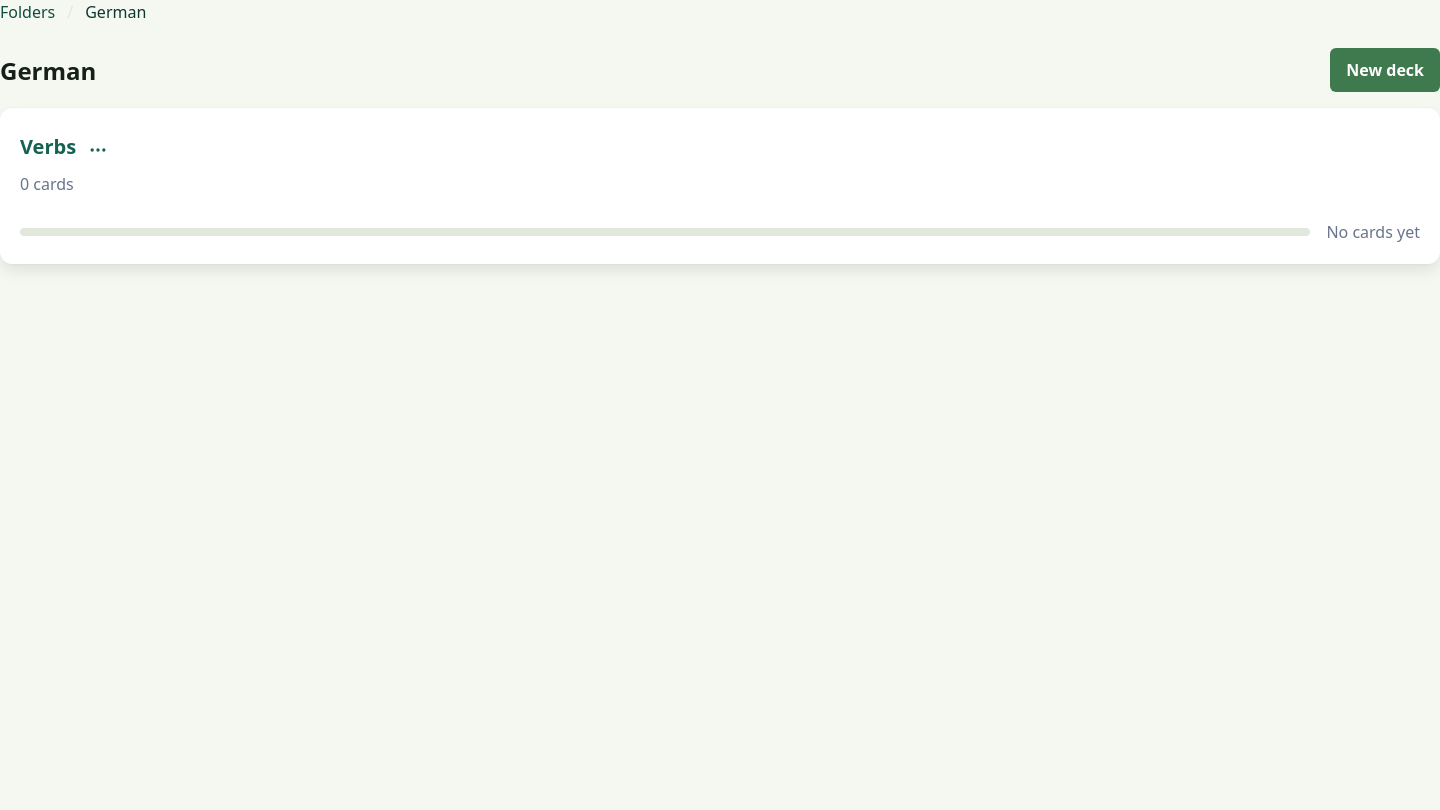
Test: FolderView › keeps the move dialog open, with the reason, when the move fails
Click the button with test id "deck-menu" at [98, 150], box [76,128,120,172]
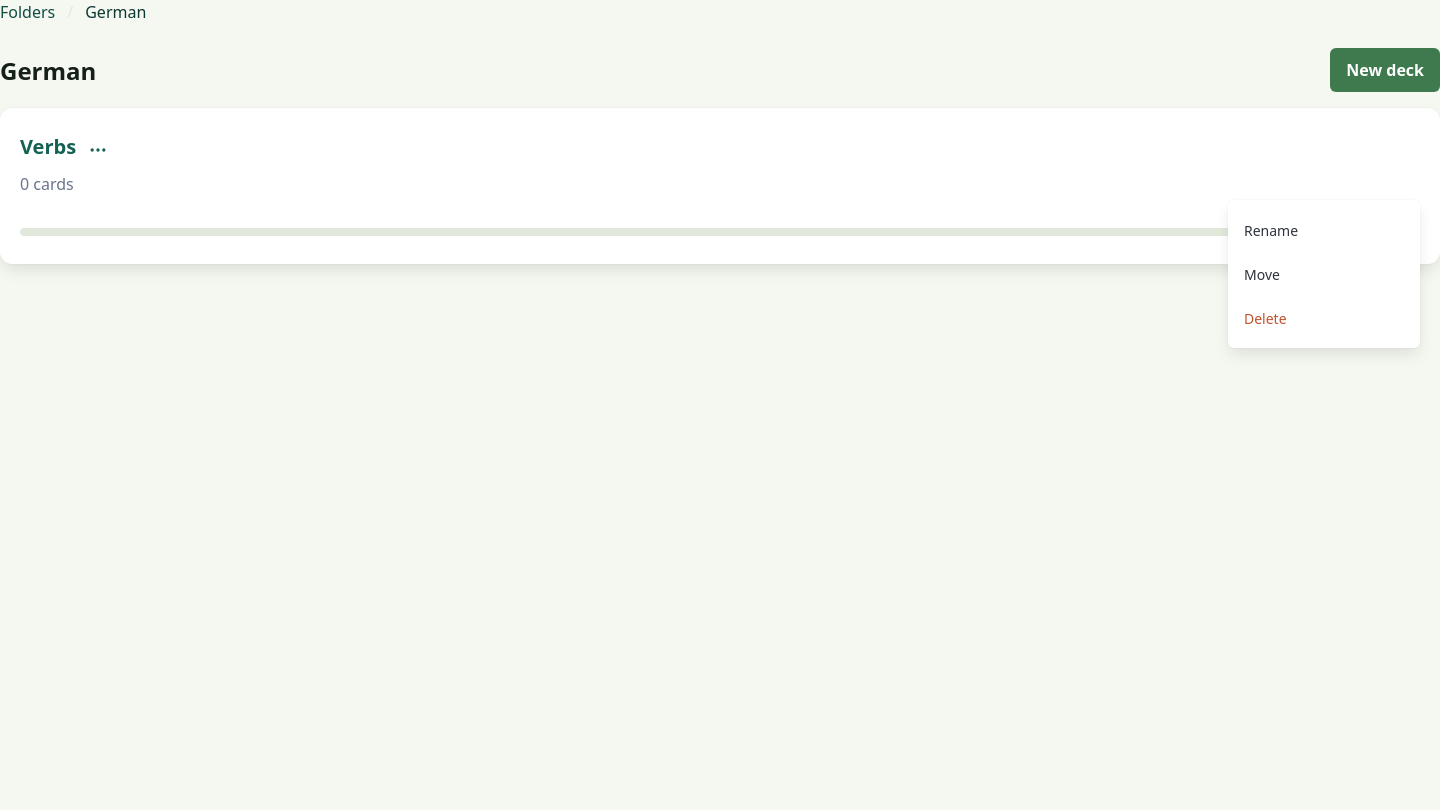
Click the button with test id "deck-move" at [1324, 274], box [1228,252,1420,296]
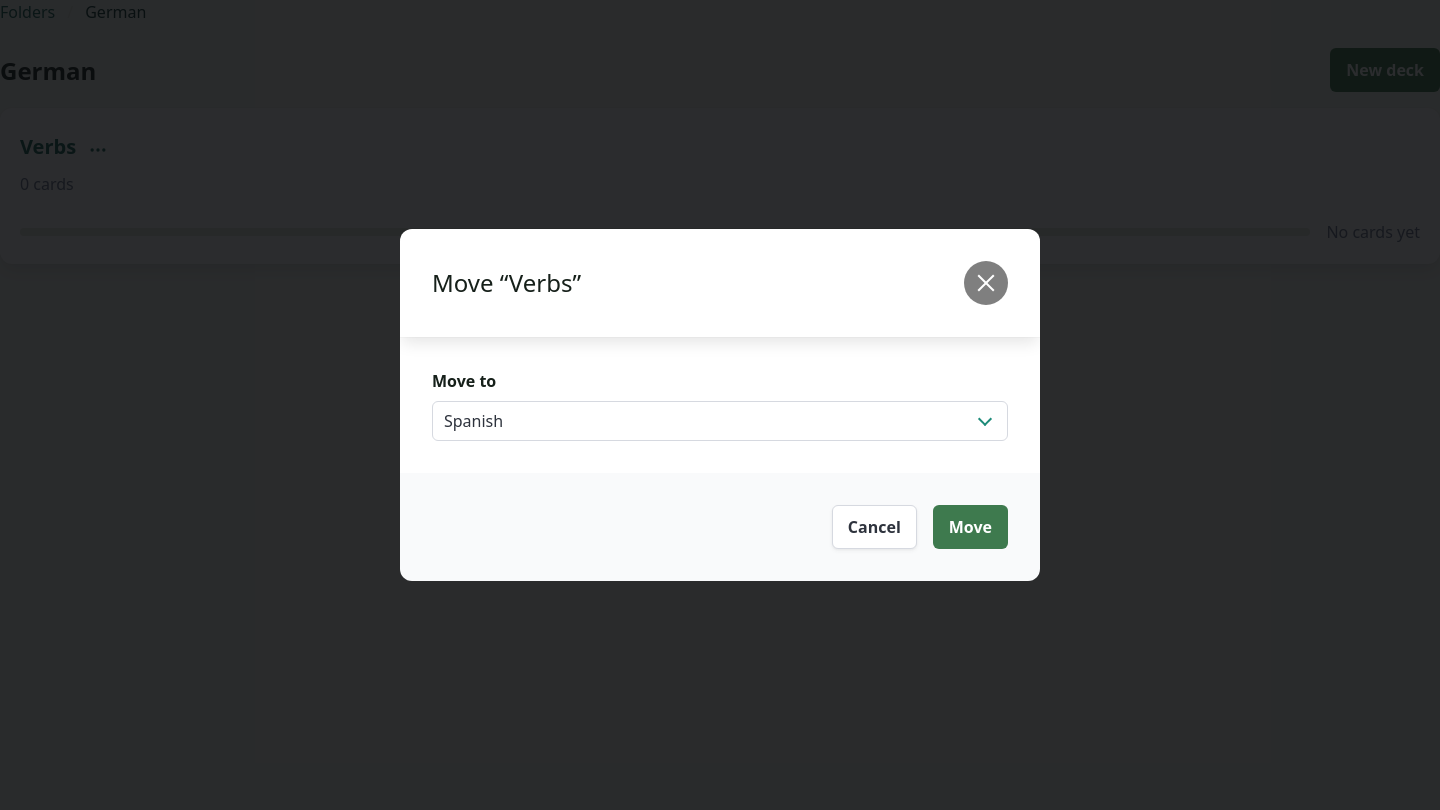
Click the button with test id "move-save" at [970, 527], box [933,505,1008,549]
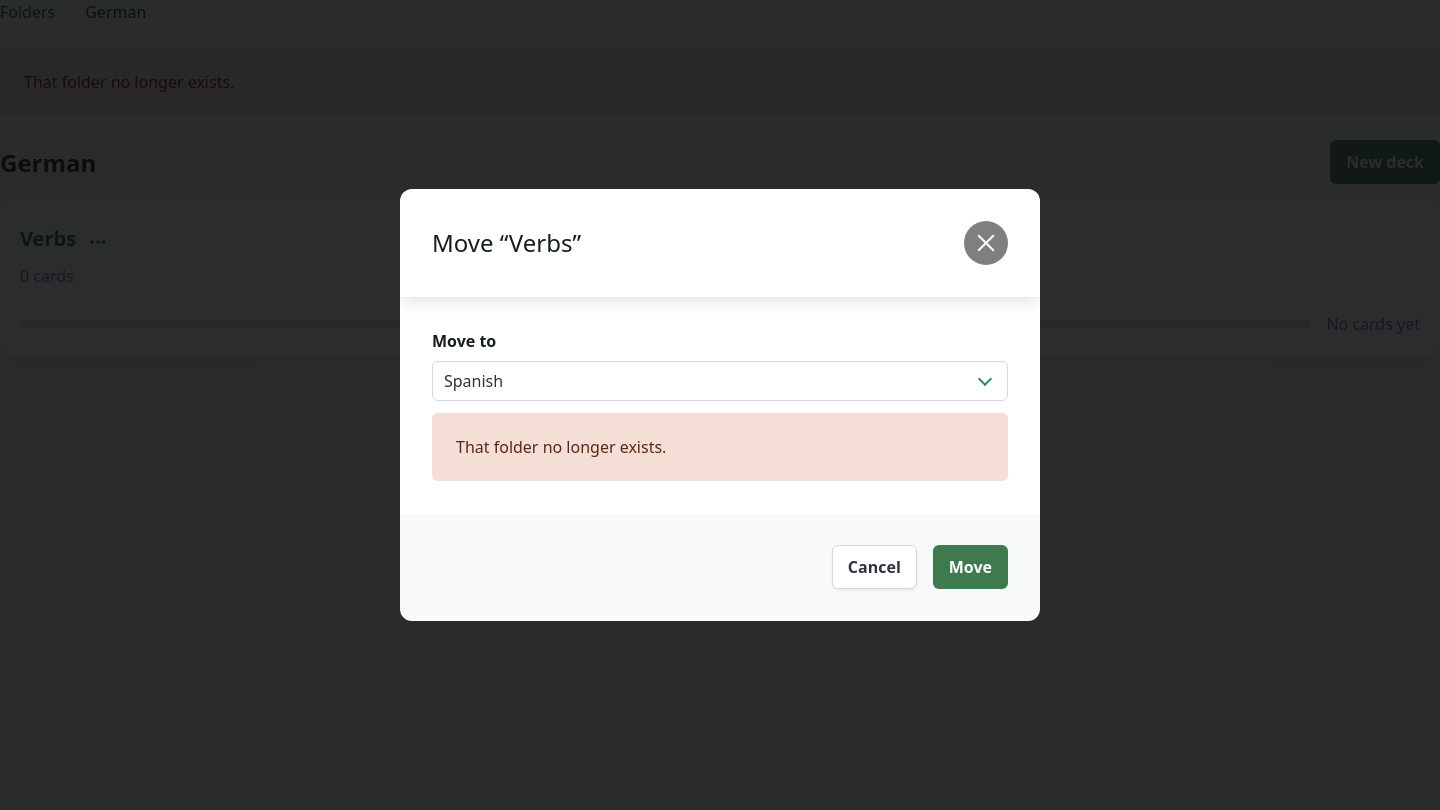
Expected: the element with test id "move-dialog" is shown
Expected: the text with test id "move-error" reads "That folder no longer exists.", [456,436,666,458]
